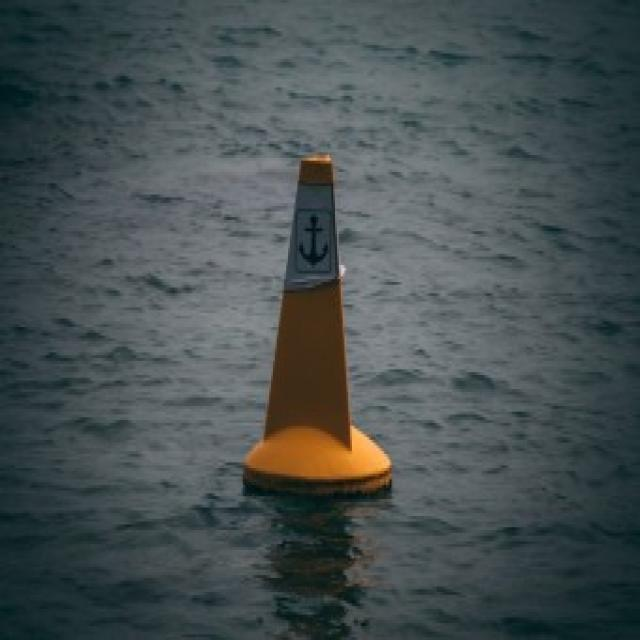2.5 sepcial mark: (242, 117, 398, 525)
